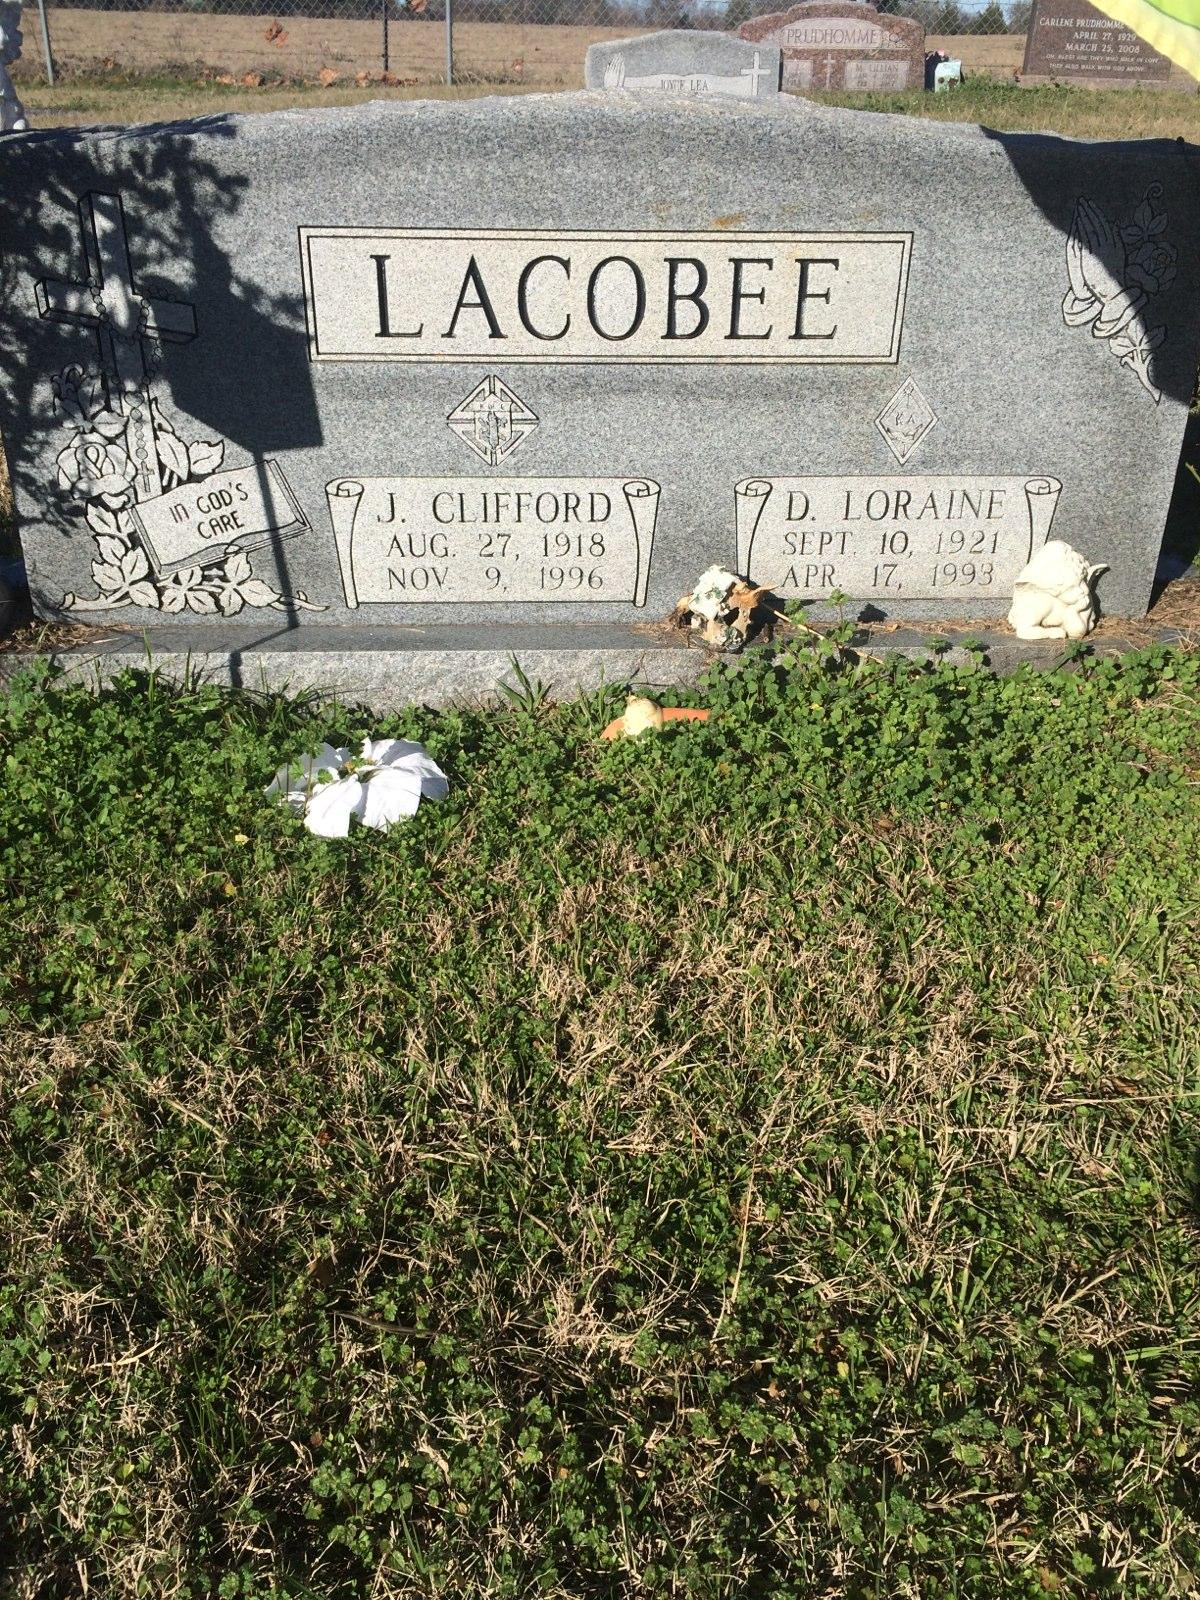upright: (0, 115, 1189, 665)
